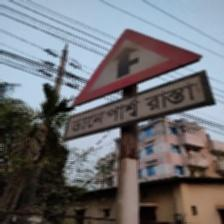Side-road-right: (64, 28, 213, 142)
